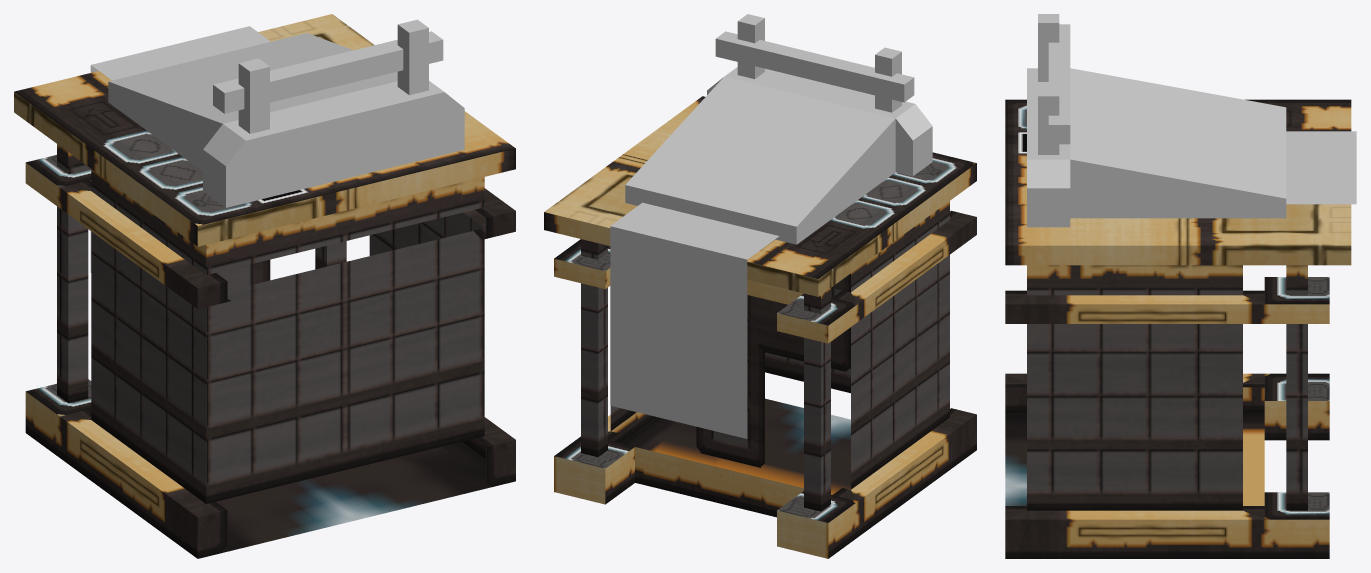
File: station_codex_lectern_inventory.obj
The picture shows the model from 3 angles, left to right: view 1: azimuth 30°, elevation 25°; view 2: azimuth 150°, elevation 25°; view 3: azimuth 270°, elevation 25°; orthographic projection. The views are drawn at different scales.
Parts seen in each view (by area): view 1: DESK_SINGLE_MAIN.006, CODEX_LECTERN_Cube.007; view 2: DESK_SINGLE_MAIN.006, CODEX_LECTERN_Cube.007; view 3: DESK_SINGLE_MAIN.006, CODEX_LECTERN_Cube.007.
Part boxes in pixels (left/top/right/bottom): DESK_SINGLE_MAIN.006: left=14, top=14, right=515, bottom=558; CODEX_LECTERN_Cube.007: left=90, top=19, right=464, bottom=272; DESK_SINGLE_MAIN.006: left=544, top=96, right=976, bottom=558; CODEX_LECTERN_Cube.007: left=610, top=14, right=932, bottom=438; DESK_SINGLE_MAIN.006: left=1005, top=99, right=1351, bottom=558; CODEX_LECTERN_Cube.007: left=1027, top=14, right=1356, bottom=227.
Size of the model in its own units: 1 by 1.38 by 1.02.
